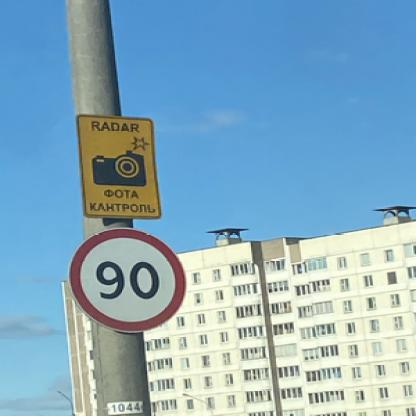speedlimit: (65, 228, 185, 330)
